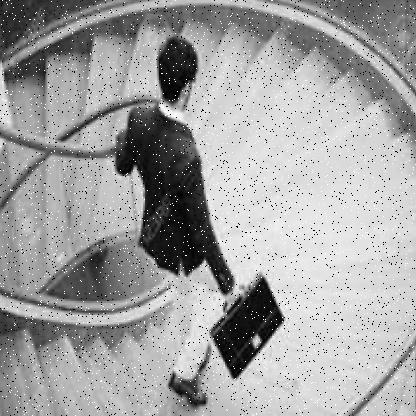stair_down: (216, 141, 416, 291)
